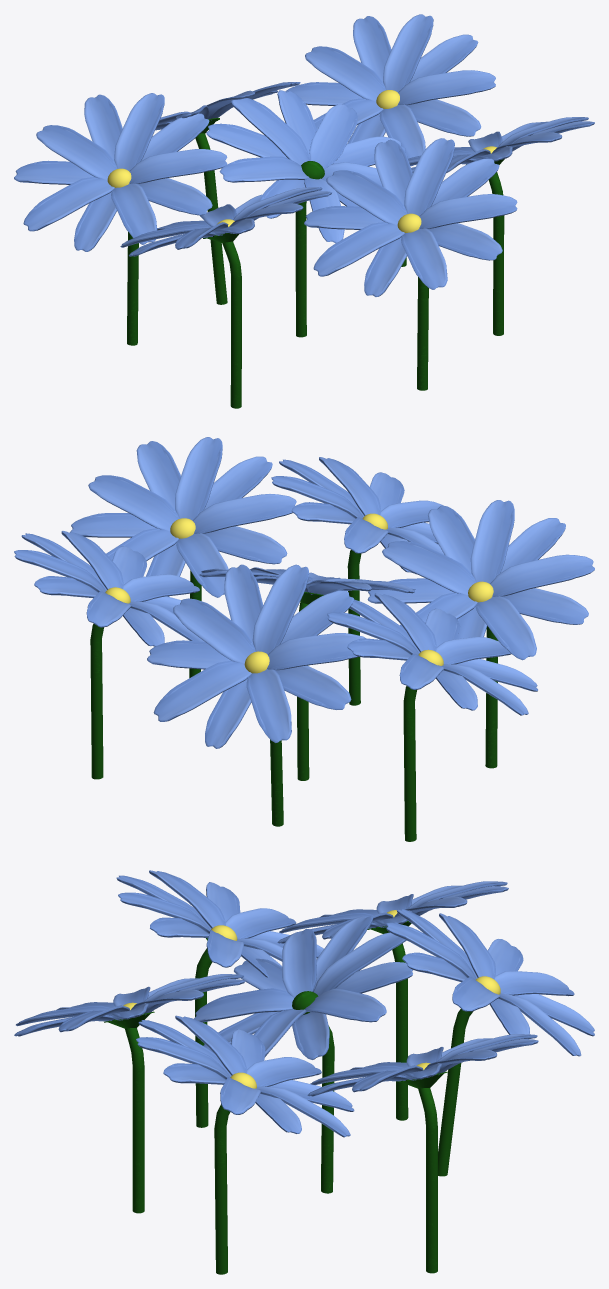
File: SM_Flower_Blue.fbx
The picture shows the model from 3 angles, top to bottom: view 1: azimuth 30°, elevation 25°; view 2: azimuth 150°, elevation 25°; view 3: azimuth 270°, elevation 25°; orthographic projection. The views are drawn at different scales.
Visible parts, largest first — view 1: Petal1 (×5), Stem1 (×6), Petal7 (×6), Petal8 (×5), Petal3 (×5), Petal5 (×3), Petal10 (×4), Petal4 (×4), Petal2 (×4), Petal6 (×4), Petal9 (×4); view 2: Petal7 (×7), Petal1 (×6), Petal3 (×6), Petal8 (×6), Stem1 (×6), Petal6 (×6), Petal9 (×5), Petal4 (×5), Petal2 (×6), Petal10 (×5), Petal5 (×6); view 3: Stem1 (×7), Petal1 (×6), Petal7 (×6), Petal3 (×5), Petal8 (×5), Petal9 (×4), Petal2 (×4), Petal6 (×4), Petal10 (×5), Petal5 (×4), Petal4 (×4).
Part boxes in pixels (bbox=[...]): Petal1 (×5): bbox=[114, 46, 454, 249]; Stem1 (×6): bbox=[127, 118, 504, 408]; Petal7 (×6): bbox=[74, 70, 588, 251]; Petal8 (×5): bbox=[23, 90, 502, 260]; Petal3 (×5): bbox=[141, 82, 407, 226]; Petal5 (×3): bbox=[138, 14, 433, 276]; Petal10 (×4): bbox=[36, 99, 481, 296]; Petal4 (×4): bbox=[129, 16, 391, 229]; Petal2 (×4): bbox=[84, 94, 412, 205]; Petal6 (×4): bbox=[111, 34, 499, 244]; Petal9 (×4): bbox=[14, 113, 447, 289]; Petal7 (×7): bbox=[61, 457, 537, 742]; Petal1 (×6): bbox=[86, 476, 594, 664]; Petal3 (×6): bbox=[123, 500, 514, 654]; Petal8 (×6): bbox=[123, 441, 536, 748]; Stem1 (×6): bbox=[90, 550, 497, 841]; Petal6 (×6): bbox=[21, 459, 511, 709]; Petal9 (×5): bbox=[153, 437, 487, 721]; Petal4 (×5): bbox=[34, 518, 565, 652]; Petal2 (×6): bbox=[128, 502, 474, 660]; Petal10 (×5): bbox=[112, 456, 588, 689]; Petal5 (×6): bbox=[14, 527, 477, 670]; Stem1 (×7): bbox=[104, 921, 473, 1274]; Petal1 (×6): bbox=[130, 870, 537, 1075]; Petal7 (×6): bbox=[58, 916, 574, 1114]; Petal3 (×5): bbox=[118, 892, 476, 1086]; Petal8 (×5): bbox=[163, 908, 594, 1084]; Petal9 (×4): bbox=[16, 929, 581, 1079]; Petal2 (×4): bbox=[150, 917, 466, 1111]; Petal6 (×4): bbox=[194, 912, 523, 1133]; Petal10 (×5): bbox=[138, 881, 529, 1076]; Petal5 (×4): bbox=[203, 913, 497, 1137]; Petal4 (×4): bbox=[116, 875, 477, 1068].
Size of the model in its own units: 0.4033 by 0.18 by 0.3761.
3 materials, 3 textured.
